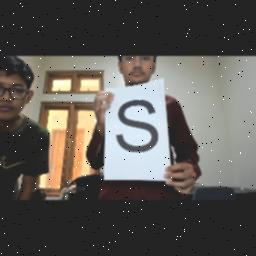s: (110, 94, 162, 156)
